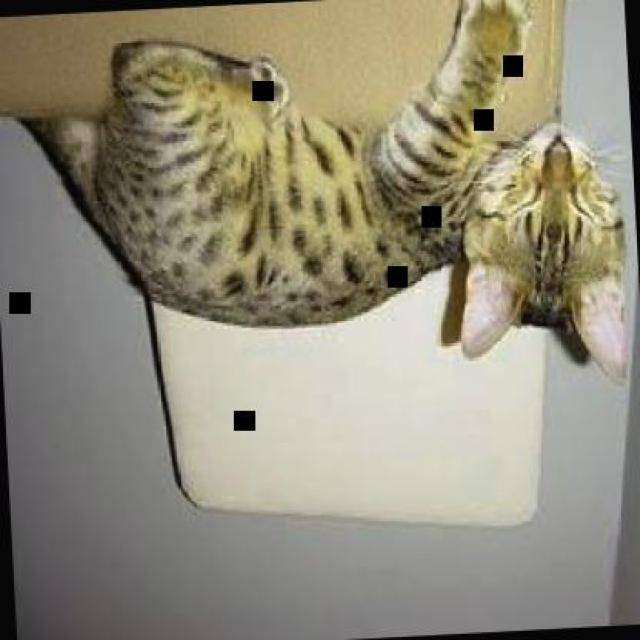cat: (8, 0, 637, 418)
